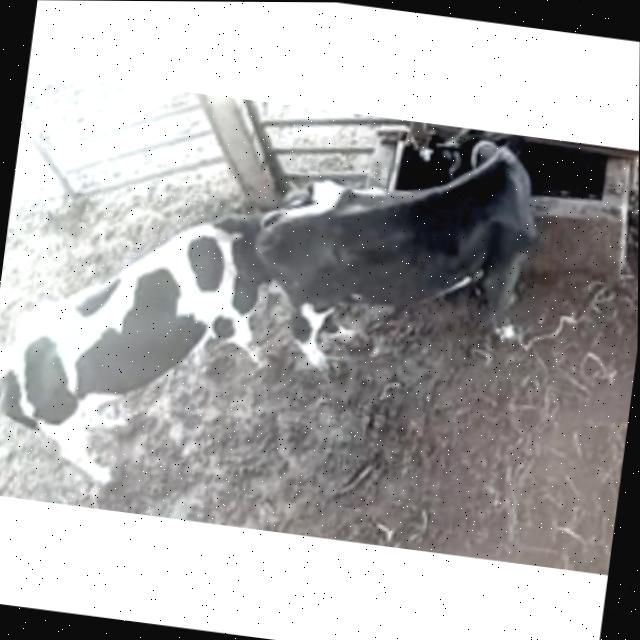drink: (423, 122, 553, 210)
